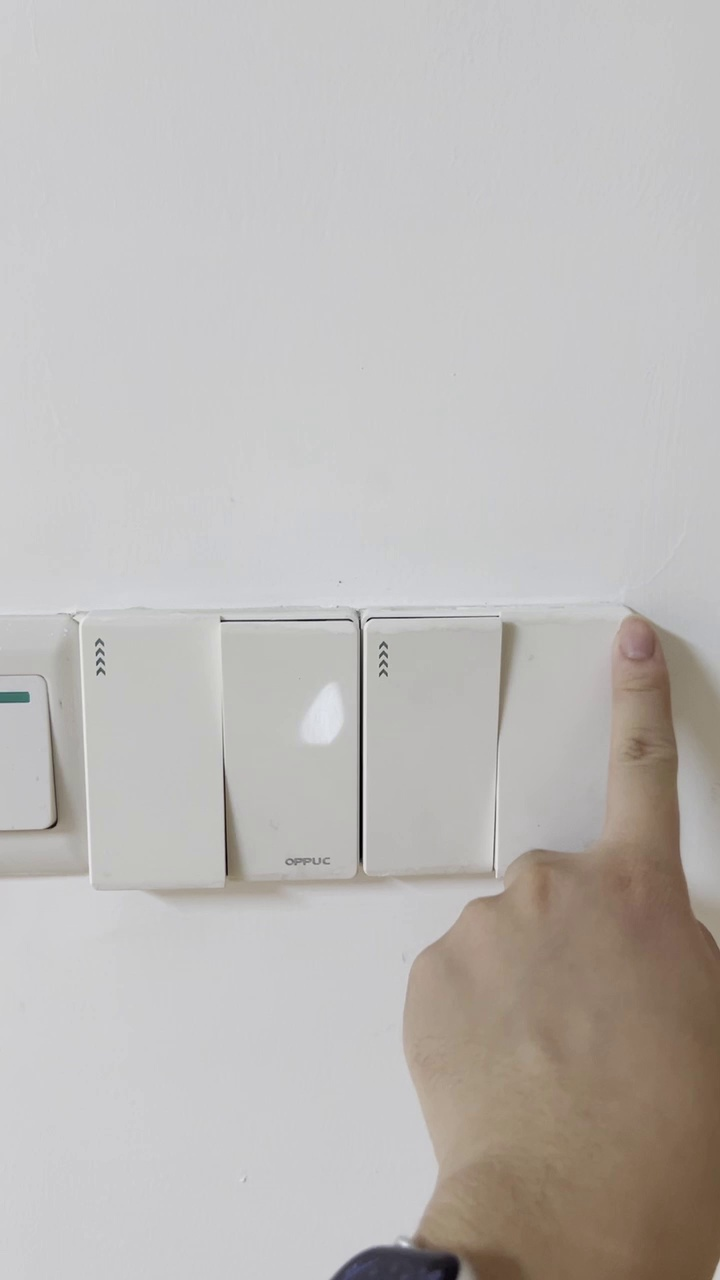button1: (87, 620, 221, 889), (229, 627, 357, 874), (501, 622, 618, 875), (371, 627, 491, 870)
